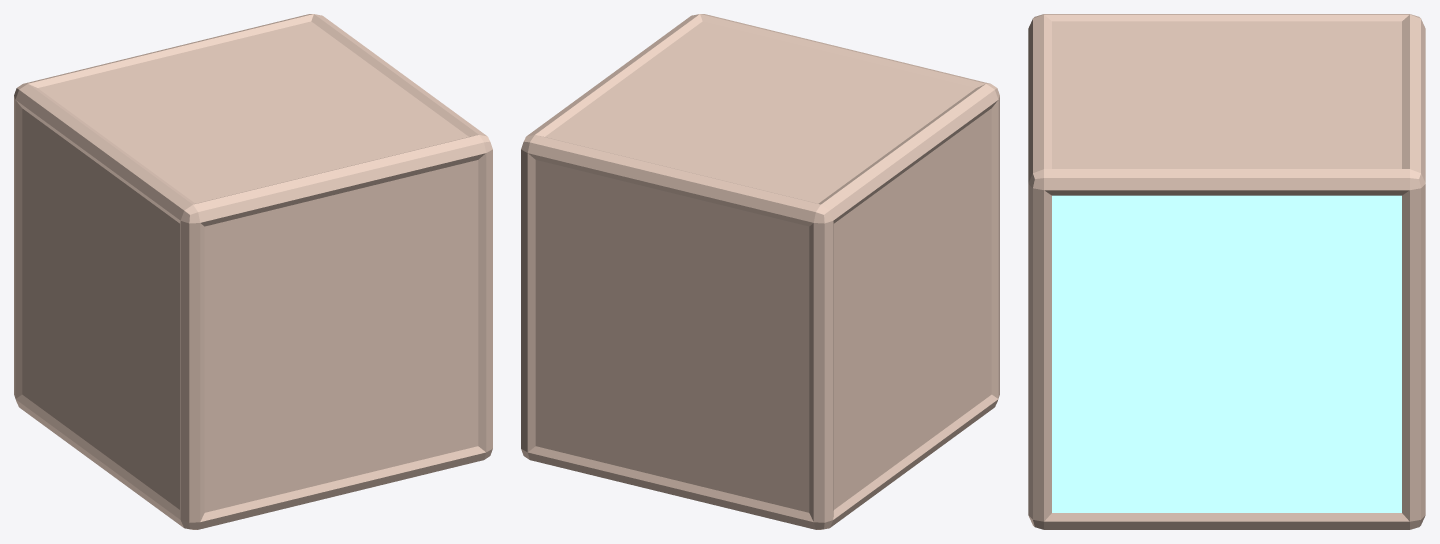
The model's file is SM_COL_Campfire_StoneRing_LG.fbx.
3 views of the same model, side by side, from view 1: azimuth 30°, elevation 25°; view 2: azimuth 150°, elevation 25°; view 3: azimuth 270°, elevation 25° (orthographic). The views are drawn at different scales.
Visible parts, largest first — view 1: SM_COL_Campfire_StoneRing_LG; view 2: SM_COL_Campfire_StoneRing_LG; view 3: SM_COL_Campfire_StoneRing_LG.
Boxes of the visible parts, x1,y1,x2,y2 form: SM_COL_Campfire_StoneRing_LG: [14, 14, 492, 529]; SM_COL_Campfire_StoneRing_LG: [521, 14, 999, 529]; SM_COL_Campfire_StoneRing_LG: [1028, 14, 1425, 529].
Size of what is drawn, in the model's own units: 2.5 by 2.5 by 2.5.
